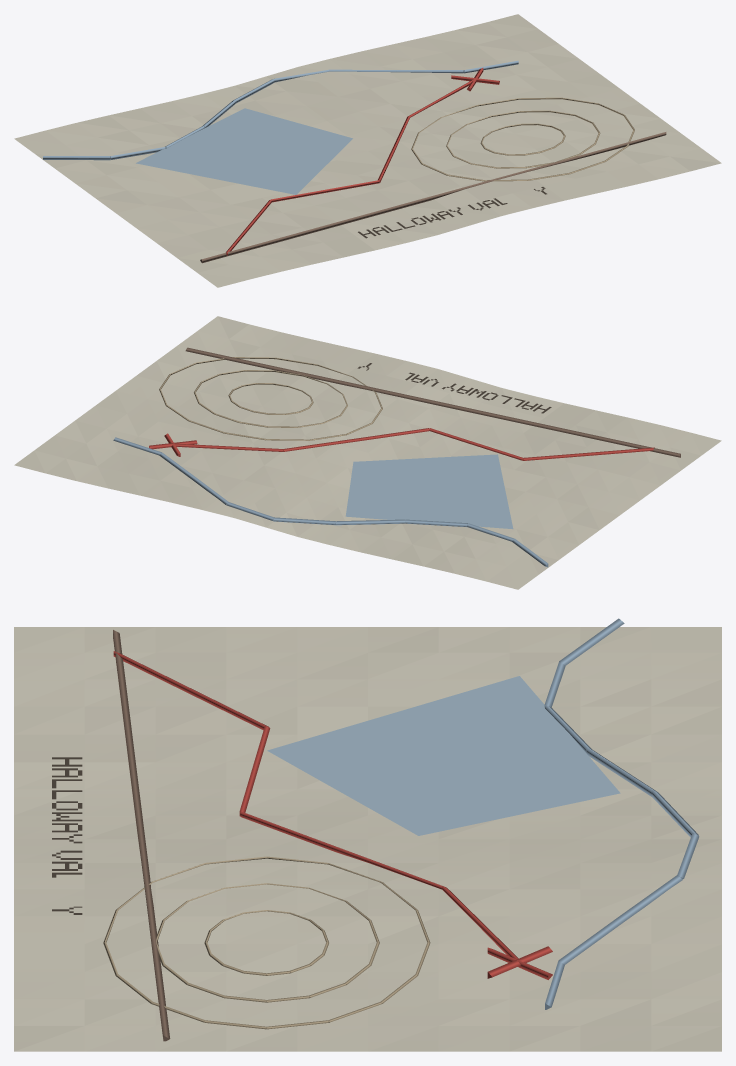
The model's file is cabin_map_a.glb.
3 renders of one model, top to bottom at view 1: azimuth 30°, elevation 25°; view 2: azimuth 150°, elevation 25°; view 3: azimuth 270°, elevation 25°, orthographic. The views are drawn at different scales.
Parts seen in each view (by area): view 1: body; view 2: body; view 3: body.
Boxes of the visible parts, x1,y1,x2,y2 form: body: (14,14,721,287); body: (14,316,721,589); body: (14,618,721,1051).
Size of the model in its own units: 0.4005 by 0.00496 by 0.28.
